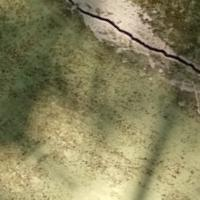crack: (68, 0, 199, 85)
